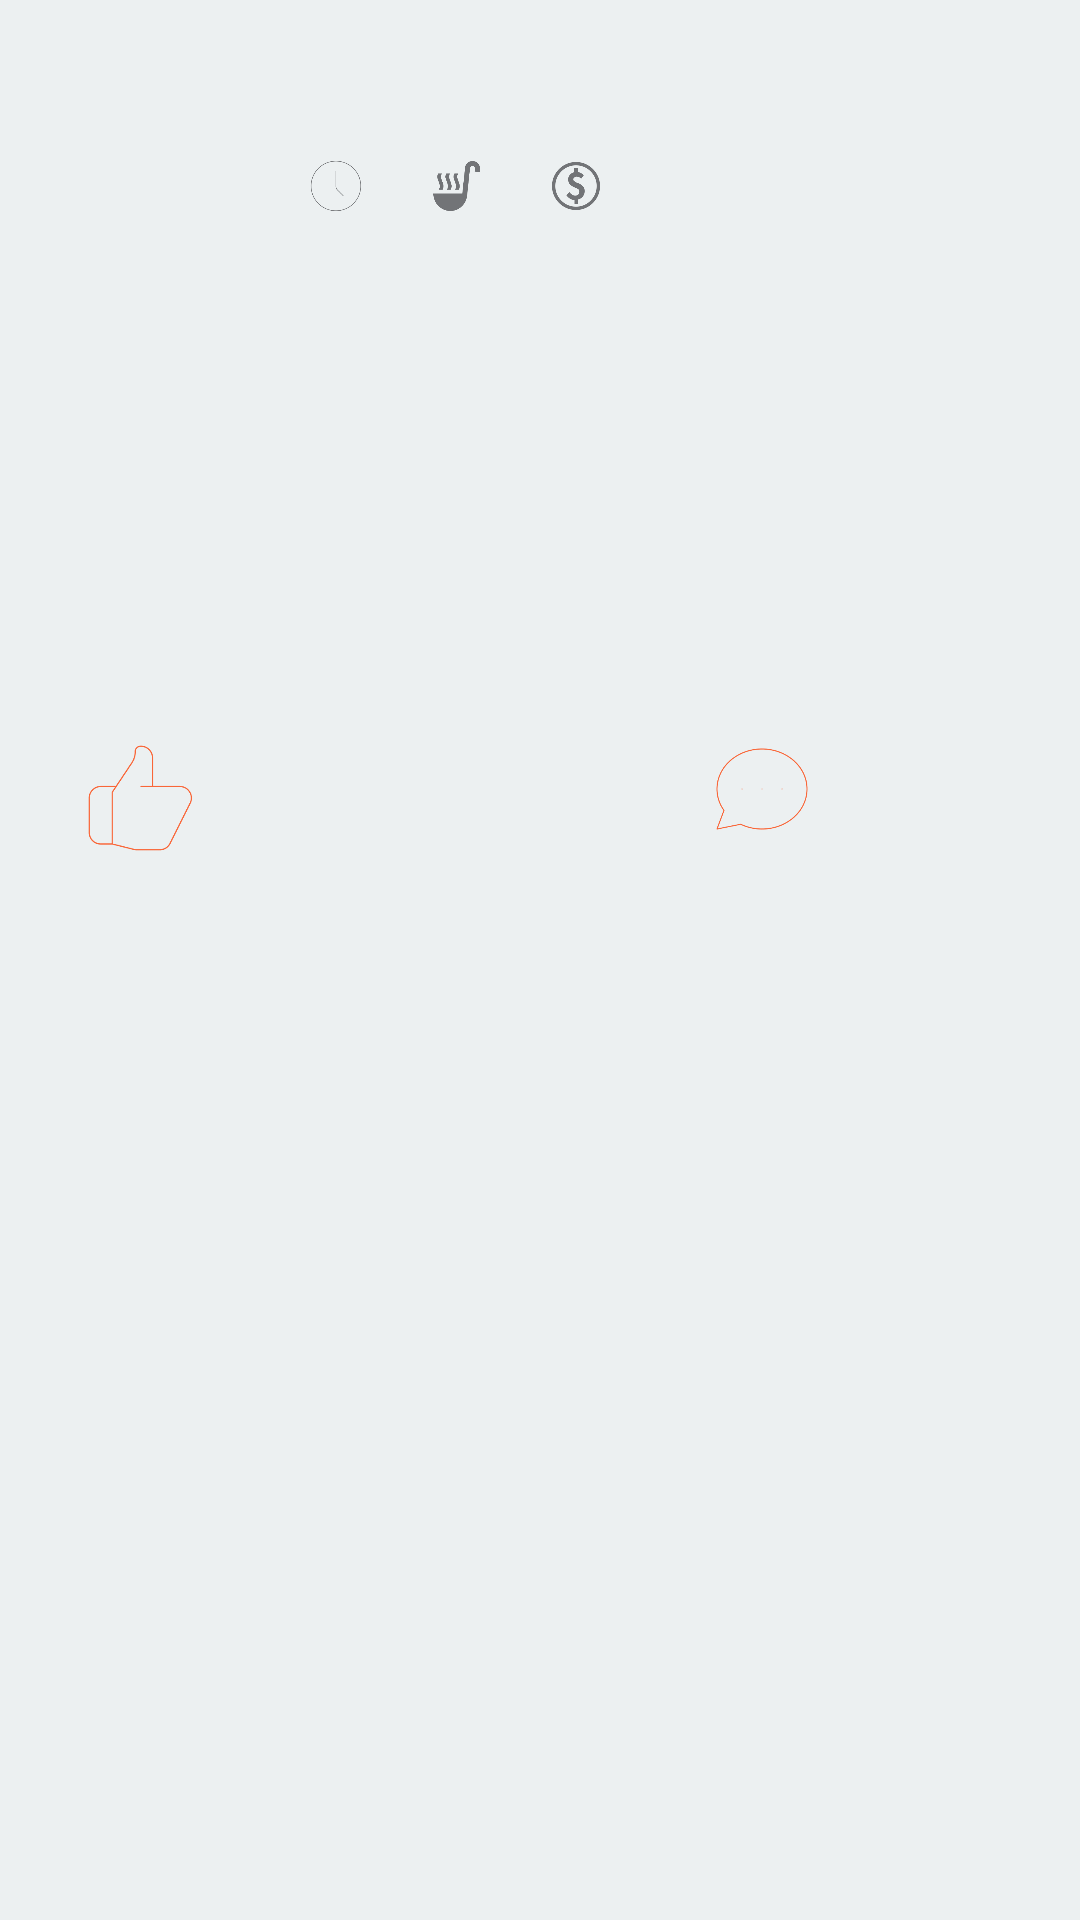

Icon click points for this 1080px x 1920px phone screenshot, format point (x, y):
clock: point (336, 186)
commentaire: point (762, 789)
cost: point (576, 186)
like: point (140, 798)
